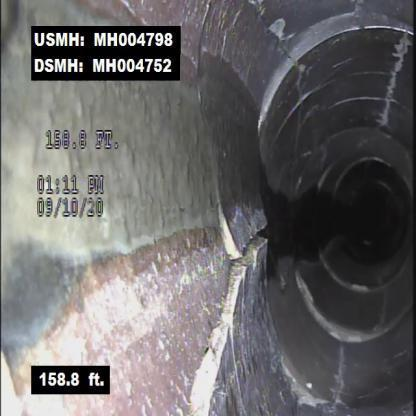Buckling: (178, 187, 277, 415)
Crack: (320, 344, 349, 415)
Joint_offset: (255, 13, 312, 126), (315, 7, 412, 45)
